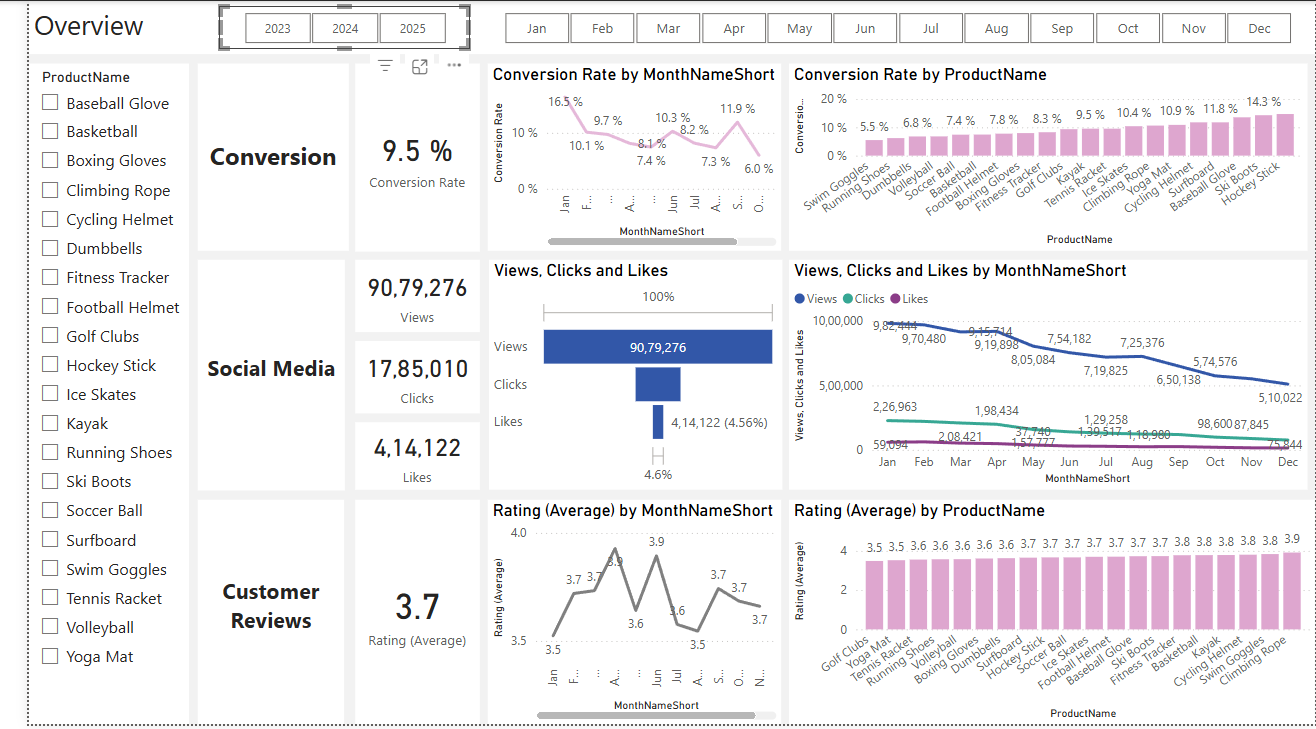

Layout of this report page (visuals, bound fields, positions):
{"tool":"powerbi","page":{"name":"Overview","canvas":[1280,720],"ordinal":0},"visuals":[{"type":"textbox","box":[0,0,1280,52.6],"z":0},{"type":"slicer","fields":{"Values":["dim_products.ProductName"]},"box":[0,61.6,159.5,658.5],"z":1000},{"type":"card","fields":{"Values":["_Calculations.Conversion Rate"]},"box":[324.1,61.9,123.9,186.8],"z":2000},{"type":"card","fields":{"Values":["_Calculations.Rating (Average)"]},"box":[324.1,496.5,123.9,224],"z":3000},{"type":"lineChart","fields":{"Y":["_Calculations.Conversion Rate"],"Category":["Calendar.MonthNameShort"]},"box":[457.1,61.9,292.3,186.7],"z":4000},{"type":"columnChart","fields":{"Category":["dim_products.ProductName"],"Y":["_Calculations.Conversion Rate"]},"box":[756.7,61.9,516.3,186.7],"z":5000},{"type":"slicer","fields":{"Values":["Calendar.Year"]},"box":[189.4,4.6,249.5,43.7],"z":6000},{"type":"slicer","fields":{"Values":["Calendar.MonthNameShort"]},"box":[448,4.6,832.3,43.7],"z":7000},{"type":"lineChart","fields":{"Y":["_Calculations.Views","_Calculations.Clicks","_Calculations.Likes"],"Category":["Calendar.MonthNameShort"]},"box":[756.6,258.1,516.1,229.2],"z":8000},{"type":"lineChart","fields":{"Category":["Calendar.MonthNameShort"],"Y":["_Calculations.Rating (Average)"]},"box":[457.1,496.3,292.3,224],"z":9000},{"type":"columnChart","fields":{"Category":["dim_products.ProductName"],"Y":["_Calculations.Rating (Average)"]},"box":[756.6,496.5,523.4,224],"z":10000},{"type":"funnel","fields":{"Y":["_Calculations.Views","_Calculations.Clicks","_Calculations.Likes"]},"box":[457.3,258.1,292.1,229.2],"z":11000},{"type":"card","fields":{"Values":["_Calculations.Views"]},"box":[324.2,257.7,123.8,71.9],"z":12000},{"type":"textbox","box":[168.5,61.9,150.3,186.7],"z":13000},{"type":"textbox","box":[168.5,257.7,146.6,229.5],"z":14000},{"type":"textbox","box":[168.5,496.3,145.7,224],"z":15000},{"type":"card","fields":{"Values":["_Calculations.Clicks"]},"box":[324.2,338.8,123.8,71.9],"z":16000},{"type":"card","fields":{"Values":["_Calculations.Likes"]},"box":[324.2,419.8,123.8,67.4],"z":17000}]}

Visuals, with their boxes in screenshot pixels (x1, y1, x2, y2), scaled from the page's 1280x720 canvas onto the 1316x729 screenshot:
textbox: box=[0, 0, 1315, 53]
slicer - dim_products.ProductName: box=[0, 62, 164, 728]
card - _Calculations.Conversion Rate: box=[333, 63, 461, 252]
card - _Calculations.Rating (Average): box=[333, 503, 461, 728]
lineChart - _Calculations.Conversion Rate x Calendar.MonthNameShort: box=[470, 63, 770, 252]
columnChart - dim_products.ProductName x _Calculations.Conversion Rate: box=[778, 63, 1309, 252]
slicer - Calendar.Year: box=[195, 5, 451, 49]
slicer - Calendar.MonthNameShort: box=[461, 5, 1315, 49]
lineChart - _Calculations.Views x _Calculations.Clicks: box=[778, 261, 1308, 493]
lineChart - Calendar.MonthNameShort x _Calculations.Rating (Average): box=[470, 503, 770, 728]
columnChart - dim_products.ProductName x _Calculations.Rating (Average): box=[778, 503, 1315, 728]
funnel - _Calculations.Views x _Calculations.Clicks: box=[470, 261, 770, 493]
card - _Calculations.Views: box=[333, 261, 461, 334]
textbox: box=[173, 63, 328, 252]
textbox: box=[173, 261, 324, 493]
textbox: box=[173, 503, 323, 728]
card - _Calculations.Clicks: box=[333, 343, 461, 416]
card - _Calculations.Likes: box=[333, 425, 461, 493]
